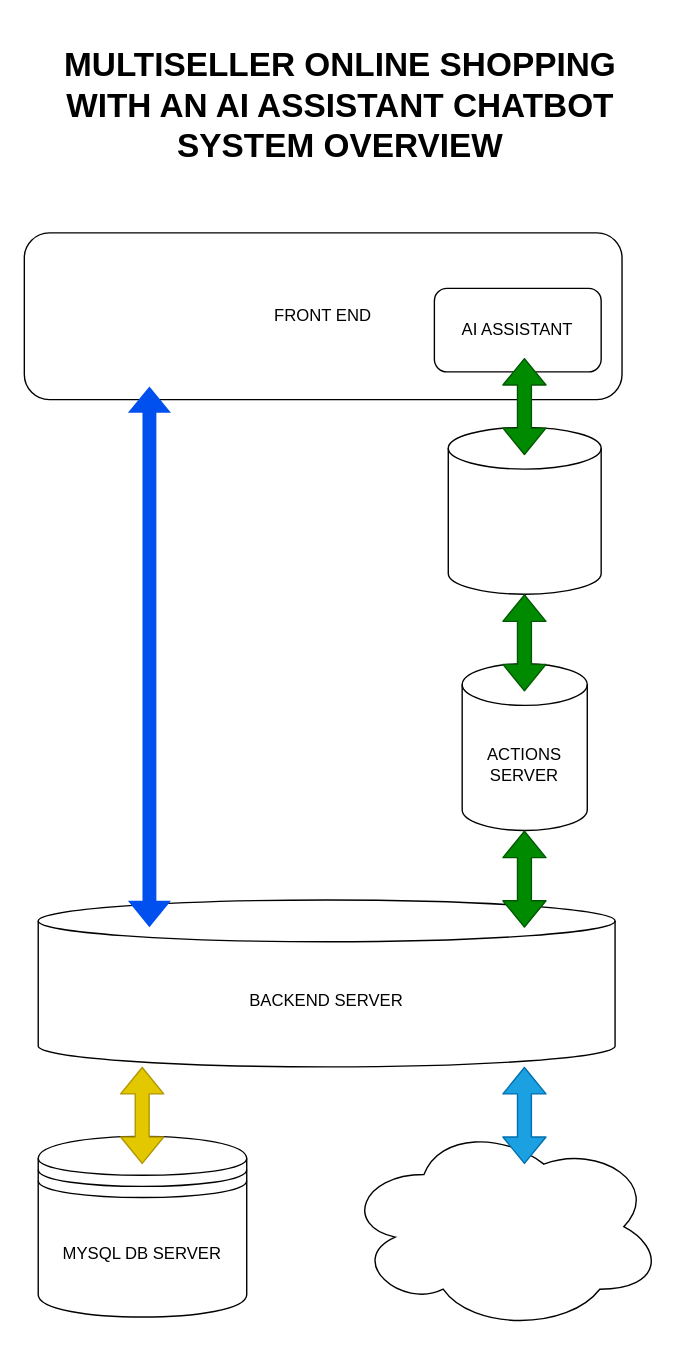
The diagram is 688 pixels wide and 1355 high, and some of its shapes have lost their labels. The shapes that lost their labels are listed below. From the top down, each one's centre as x and y in pixels, then its label:
At (524,510): "MACHINE LEARNING ENGINE (RASA CORE)".
At (503,1226): "3RD PARTY GATEWAYS (PAYMENTS - PAYNOW) EMAILS - SMTP SERVER".
